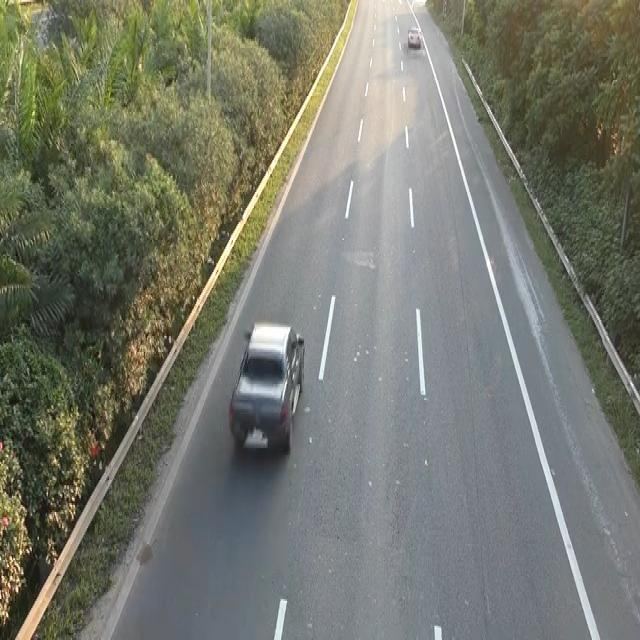bus: (226, 316, 306, 457)
